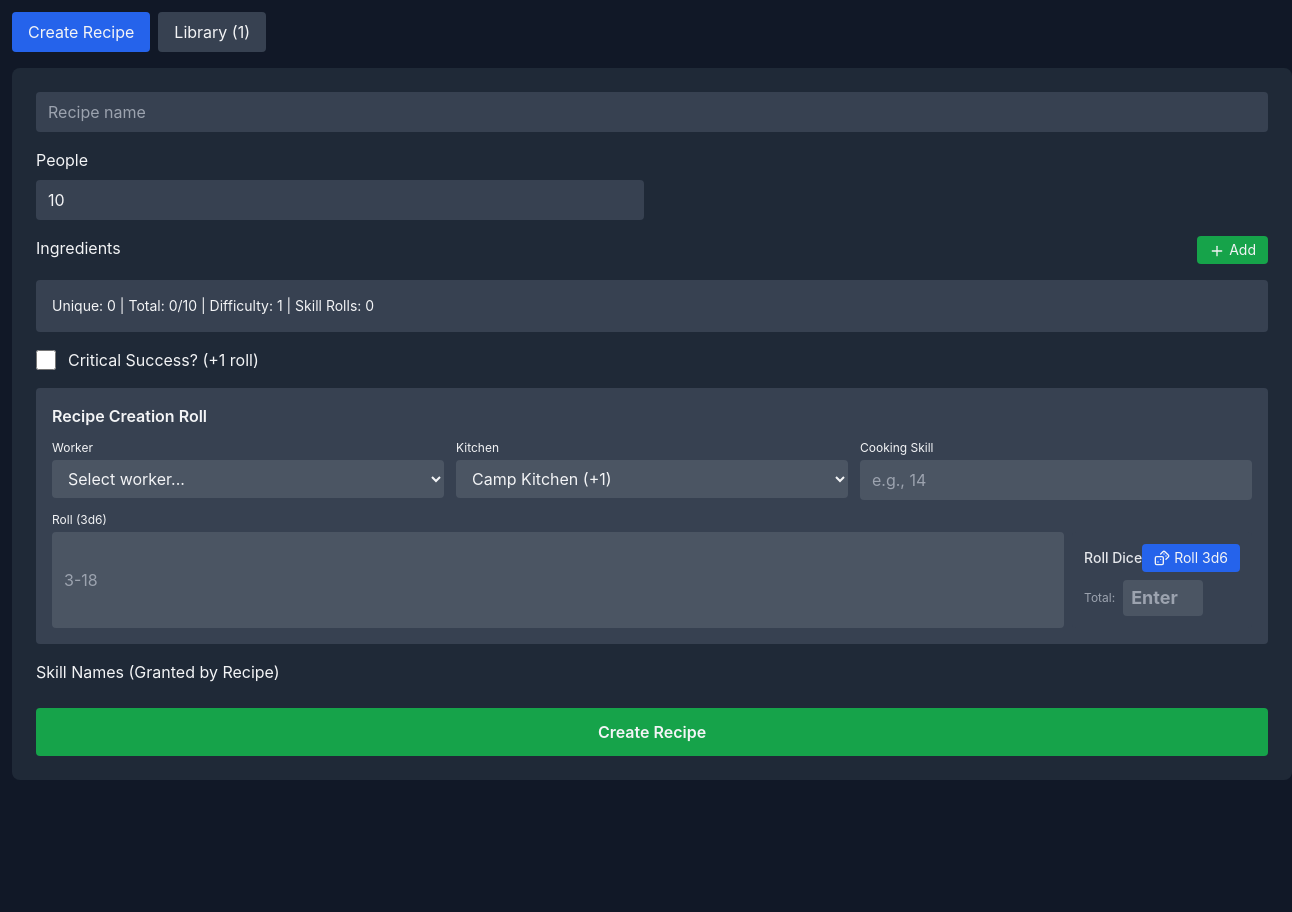
Test case: CookingTab router › switches from create to library view
Click the button "Library (1)" at (212, 32), box [158,12,266,52]
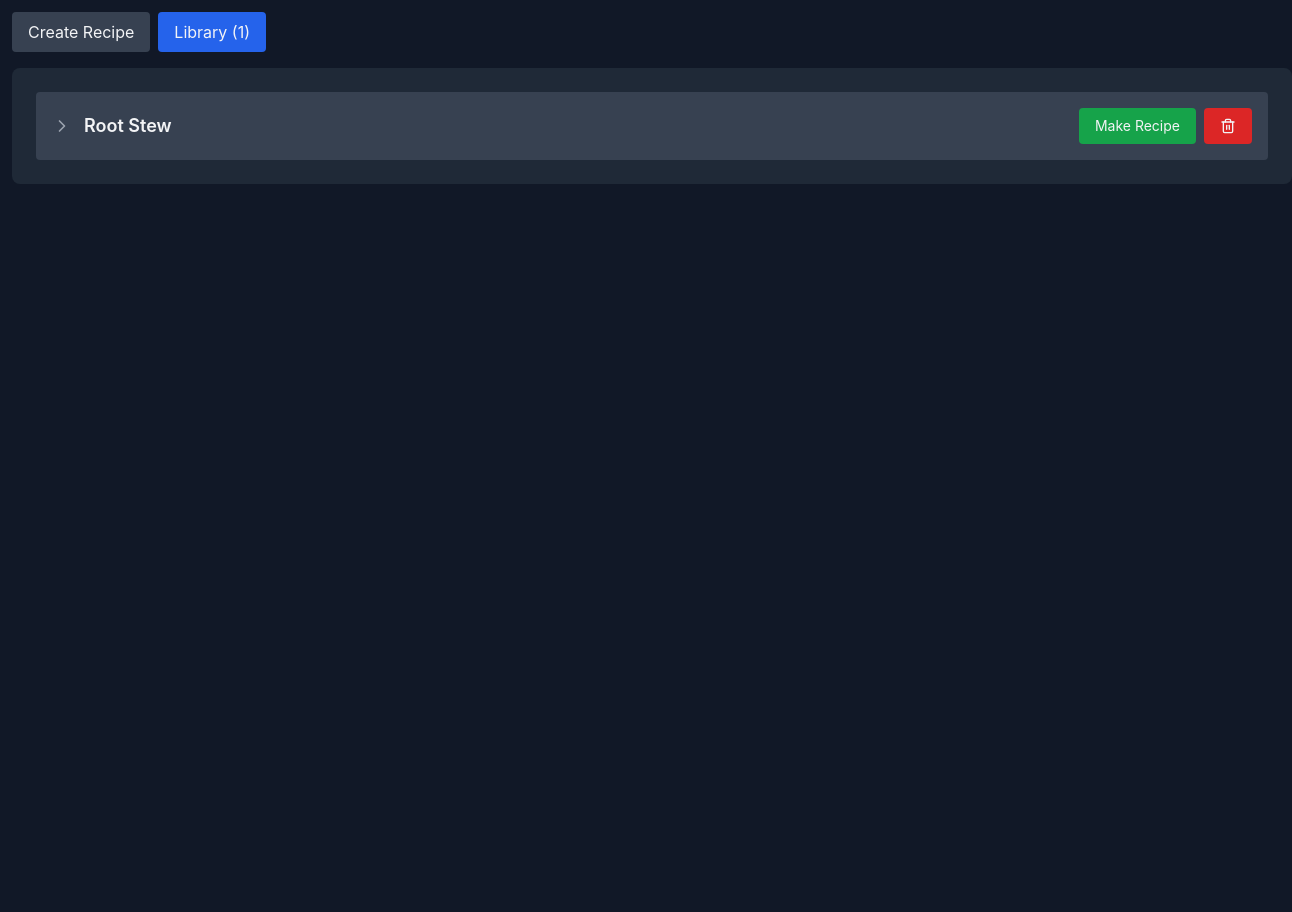
Expected: the field with placeholder "Recipe name" is not shown
Expected: the heading "Root Stew" is shown, [84,115,172,136]
